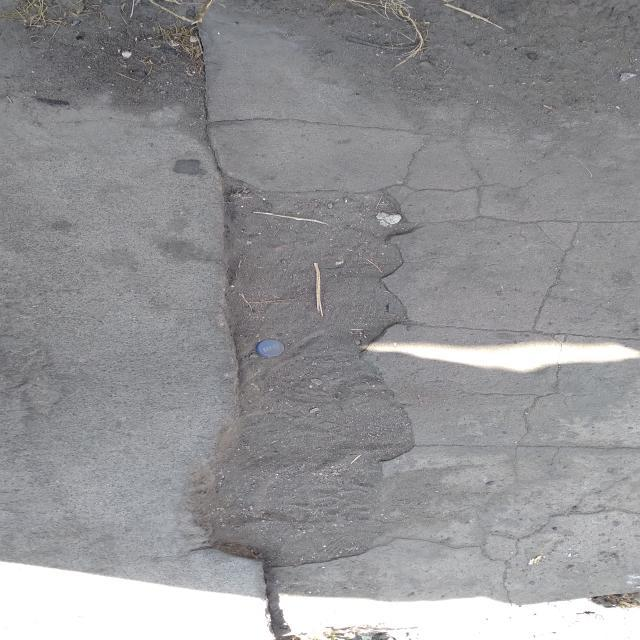hole: (185, 184, 416, 568)
